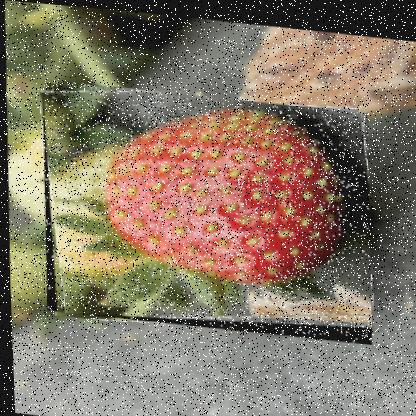strawberry: (37, 76, 374, 338)
